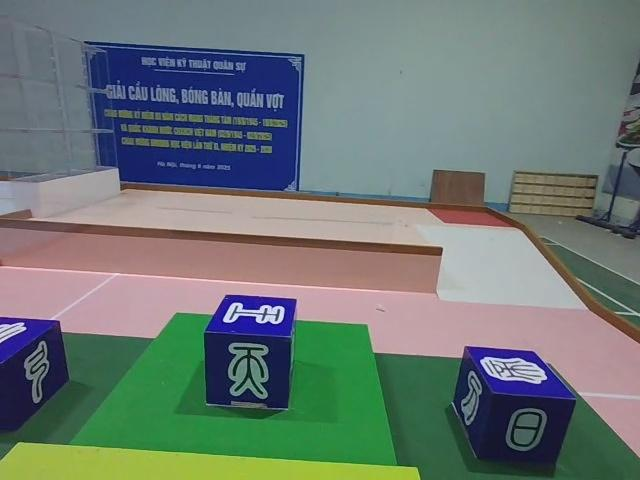R2 Fake Blue: (456, 342, 579, 480), (205, 293, 301, 413), (0, 315, 65, 433)
